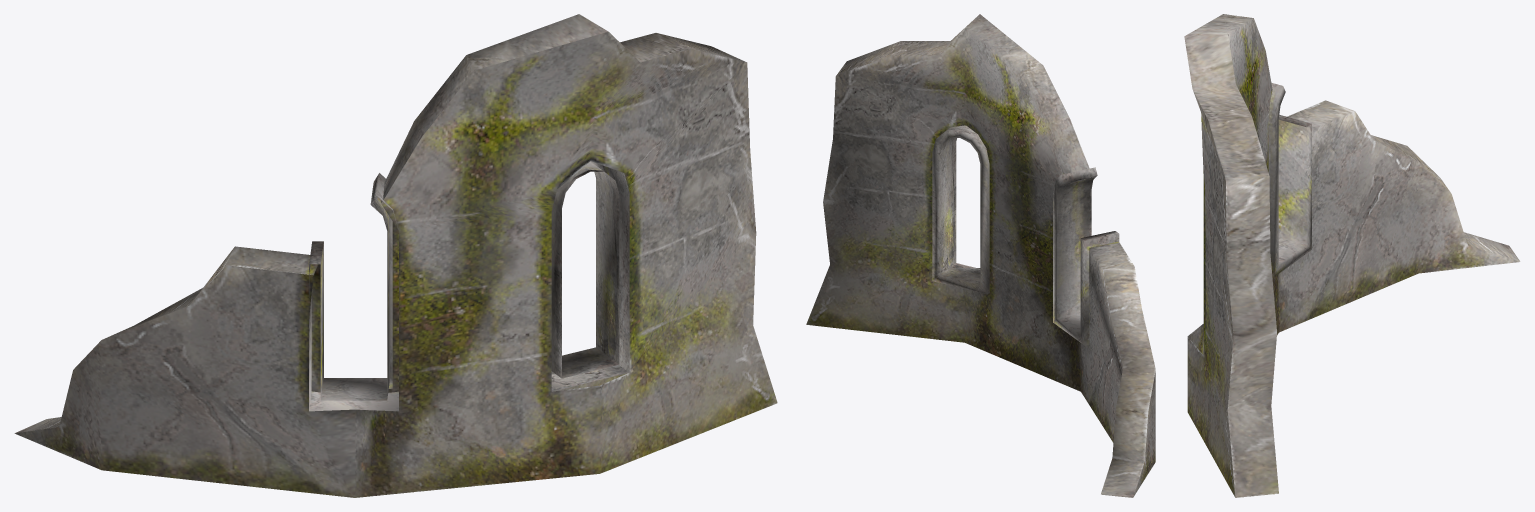
The model's file is Ruins building.FBX.
3 renders of one model, left to right at view 1: azimuth 30°, elevation 25°; view 2: azimuth 150°, elevation 25°; view 3: azimuth 270°, elevation 25°, orthographic. The views are drawn at different scales.
Visible parts, largest first — view 1: Ruins building; view 2: Ruins building; view 3: Ruins building.
Part boxes in pixels (bbox=[...]): Ruins building: bbox=[14, 14, 777, 497]; Ruins building: bbox=[806, 14, 1155, 497]; Ruins building: bbox=[1184, 14, 1520, 497].
Size of the model in its own units: 6.46 by 4.52 by 3.64.
Materials: 1 (1 with a texture image).
